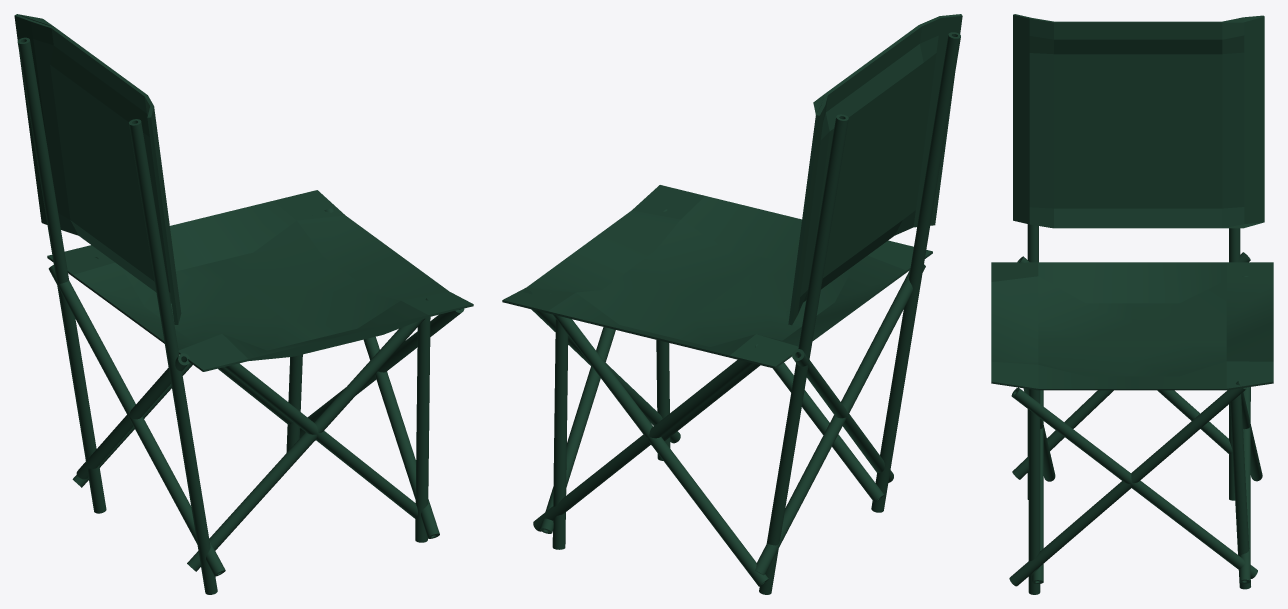
Rendered from model_chair.fbx.
3 views of the same model, side by side, from view 1: azimuth 30°, elevation 25°; view 2: azimuth 150°, elevation 25°; view 3: azimuth 270°, elevation 25° (orthographic). The views are drawn at different scales.
Parts seen in each view (by area): view 1: pPipe11; view 2: pPipe11; view 3: pPipe11.
Part boxes in pixels (x1,y1,x2,y2): pPipe11: (14, 14, 473, 594); pPipe11: (502, 14, 962, 594); pPipe11: (991, 14, 1273, 594).
Size of the model in its own units: 10.18 by 15.06 by 8.48.
